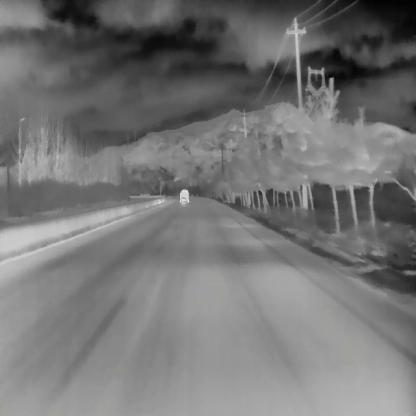car: (179, 188, 188, 202)
